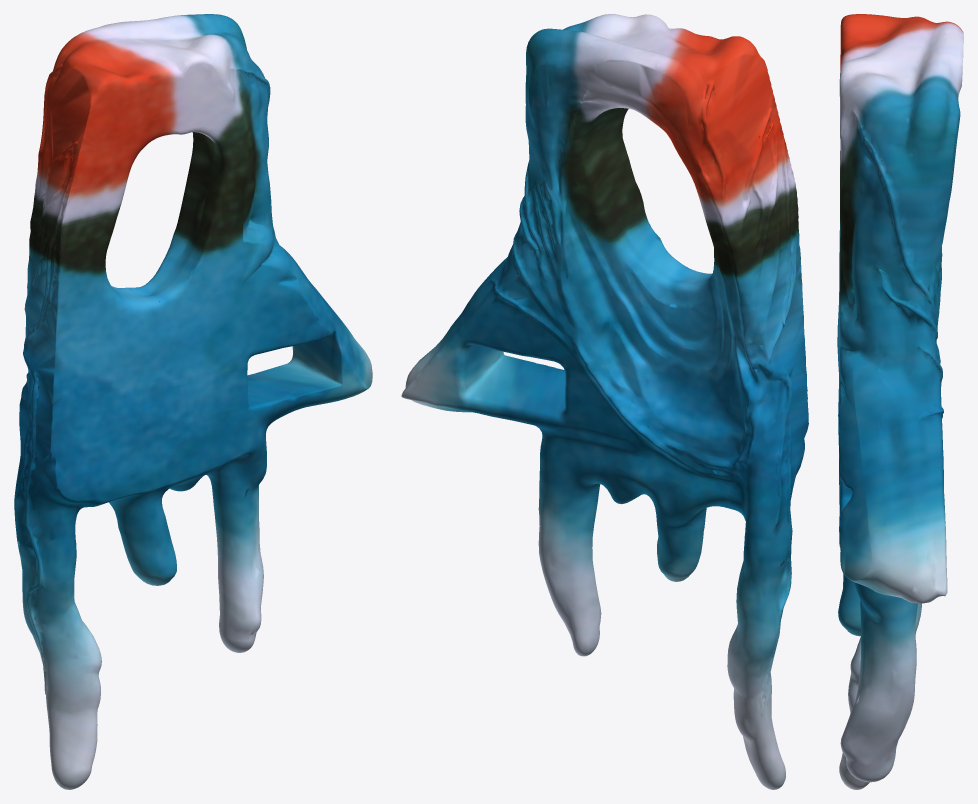
Rendered from asset.glb.
The picture shows the model from 3 angles, left to right: view 1: azimuth 30°, elevation 25°; view 2: azimuth 150°, elevation 25°; view 3: azimuth 270°, elevation 25°; orthographic projection. The views are drawn at different scales.
Parts seen in each view (by area): view 1: eigen1; view 2: eigen1; view 3: eigen1.
Boxes of the visible parts, x1,y1,x2,y2 form: eigen1: [14, 14, 372, 789]; eigen1: [401, 14, 808, 789]; eigen1: [837, 14, 963, 789].
Size of the model in its own units: 0.5274 by 1.02 by 0.1461.
1 material, 1 textured.
